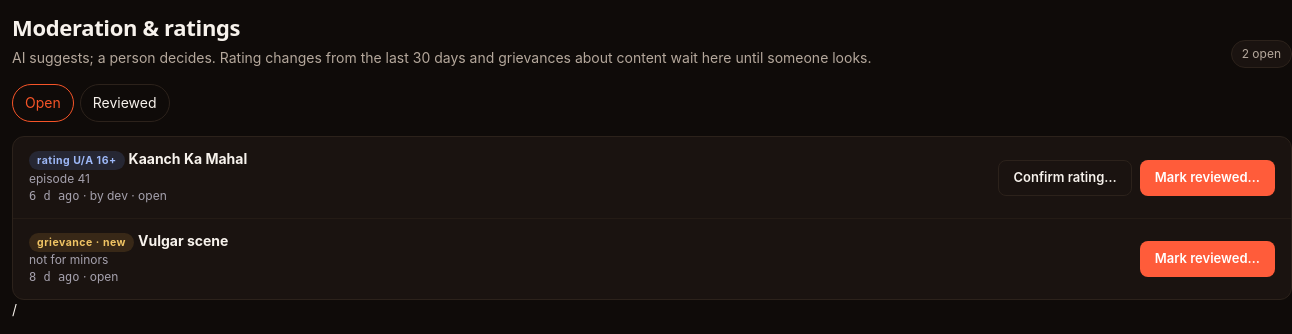
Scenario: Moderation & ratings › lists open items, reviewed items on their tab, and links out
Expected: the text "Kaanch Ka Mahal" is shown, [129,150,247,168]
Expected: the text "2 open" is shown, [1231,40,1291,68]
Click the tab "Reviewed": (125, 103) [80,84,170,122]
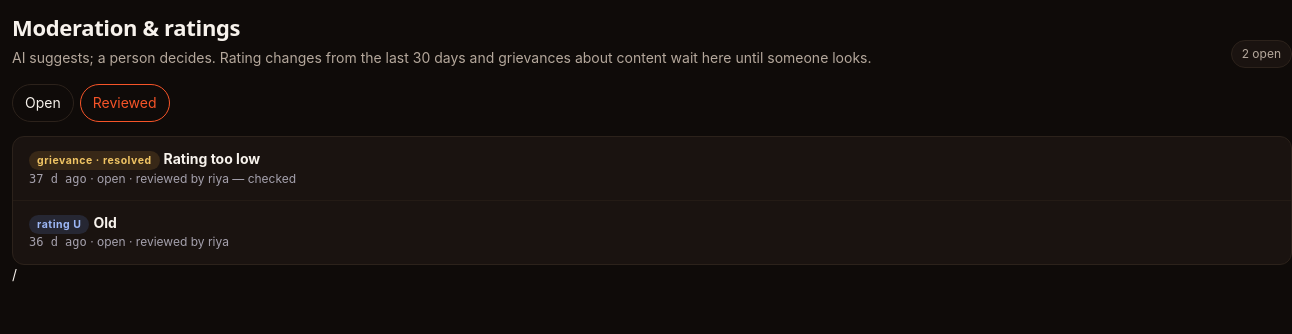
Expected: the text "Rating too low" is shown, [164,150,260,168]
Expected: the text "37 d ago · open · reviewed by riya — checked" is shown, [29,171,296,186]
Expected: the text "Old" is shown, [93,214,117,231]
Click the link "open" next to "37 d ago": (111, 178) [97,171,126,186]
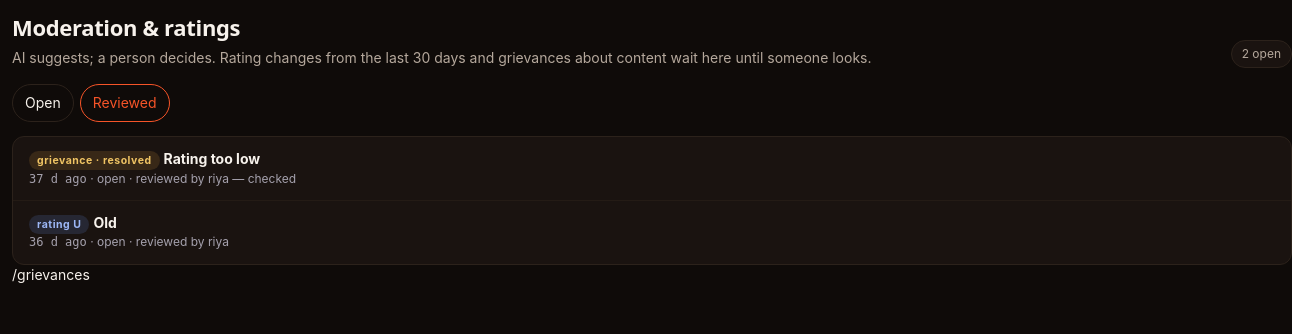
Expected: the text with test id "location" reads "/grievances", [12,266,90,283]
